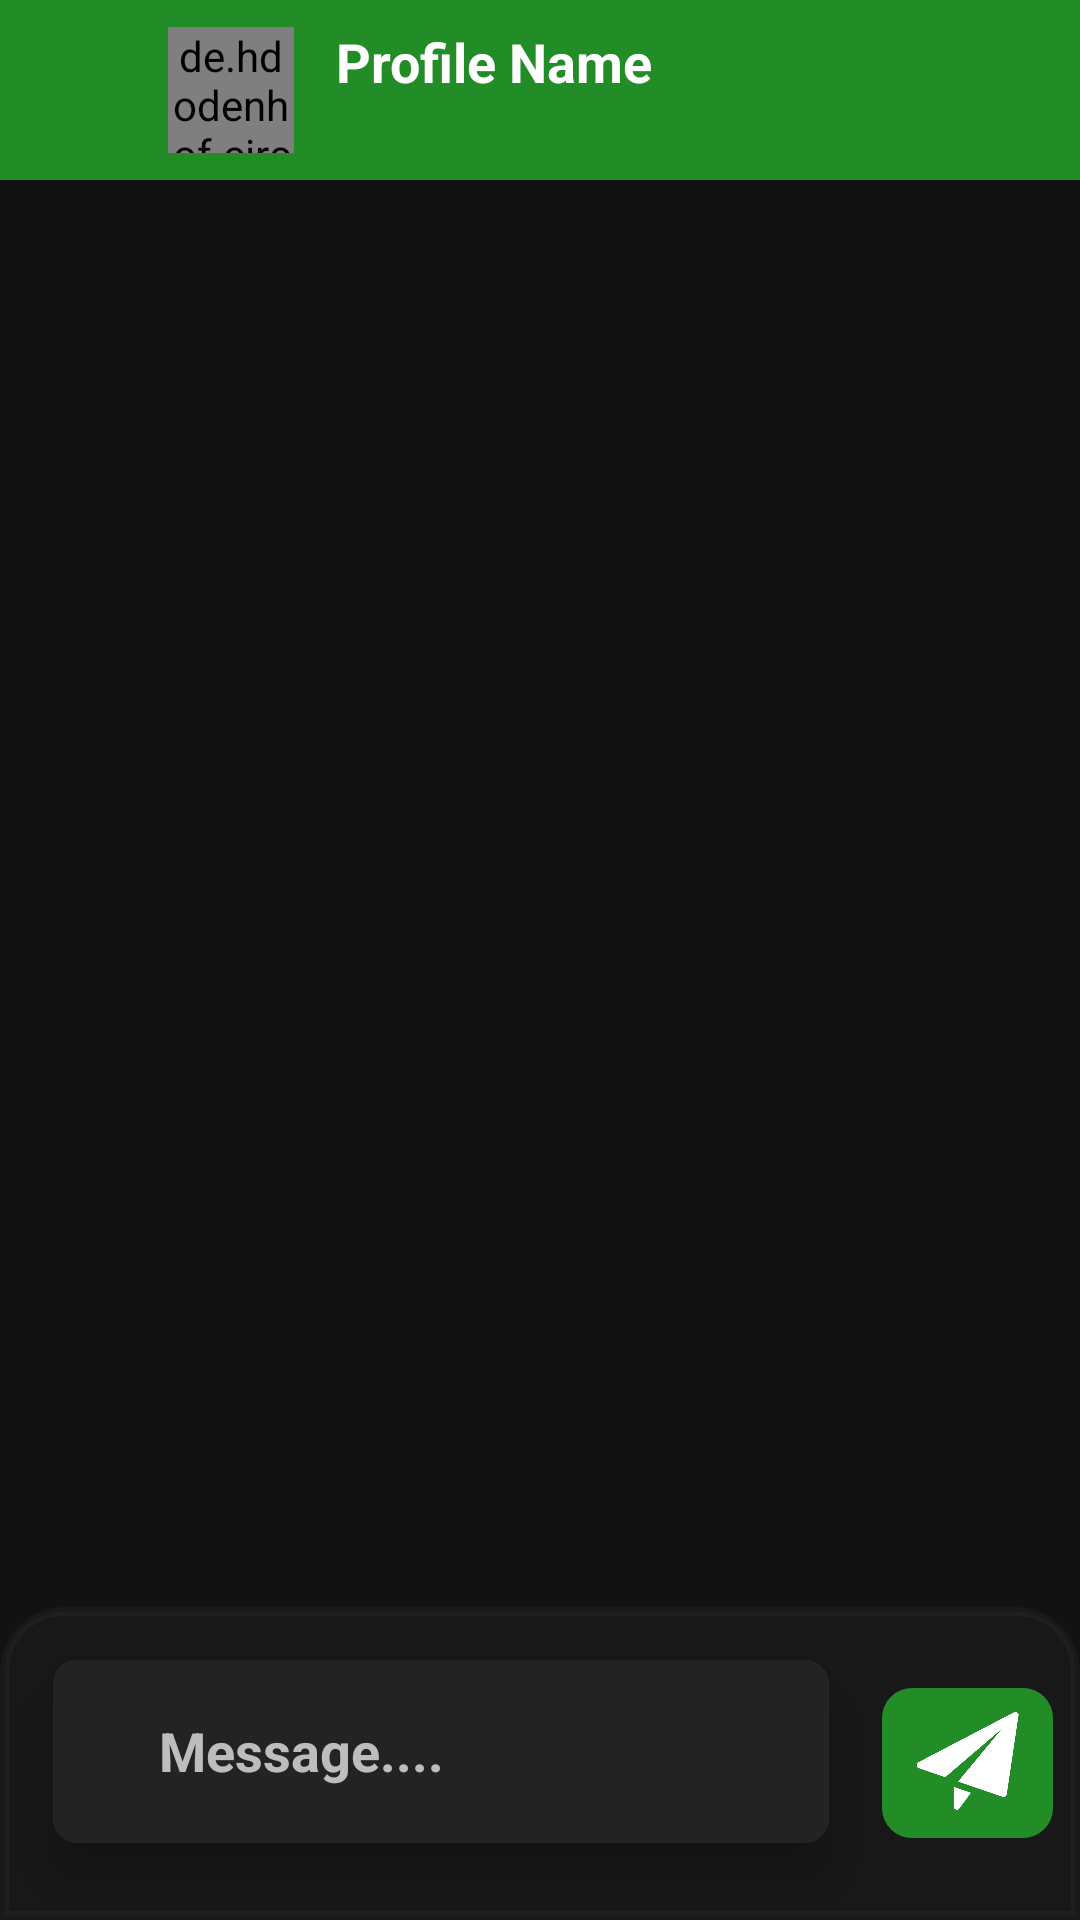

Where icons sit on this 1080×1920 app screen, as (x1, y1, x2, y2):
send: (882, 1688, 1053, 1838)
